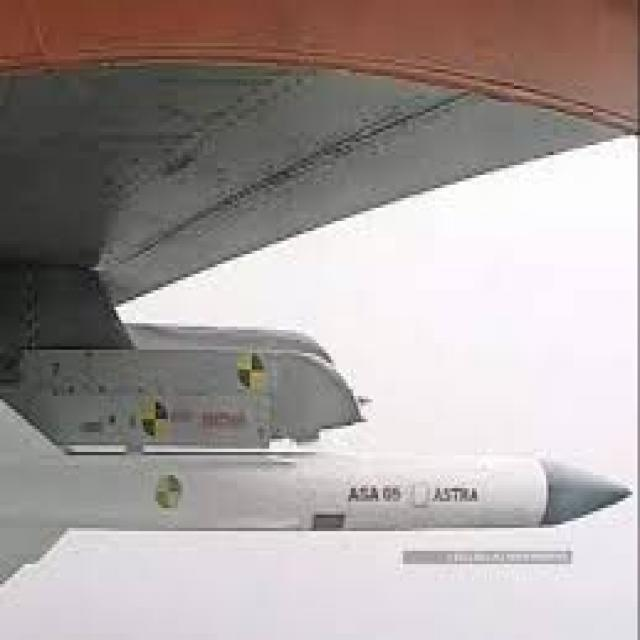Missile: (0, 398, 640, 578), (60, 426, 640, 540)
